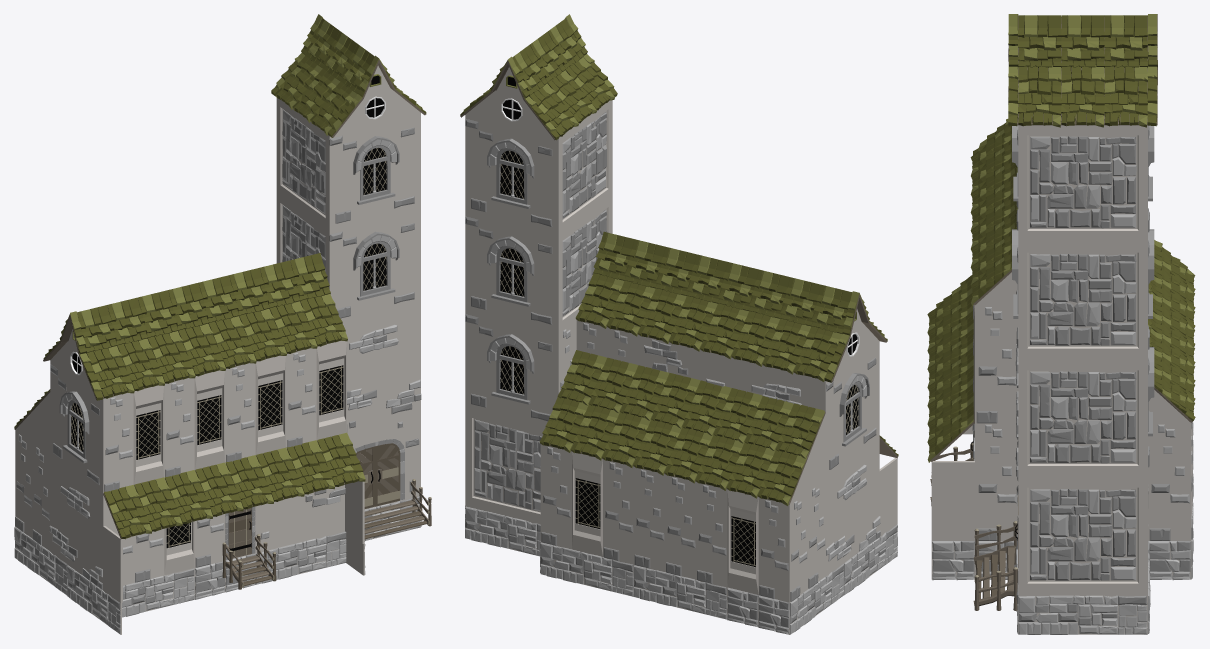
File: HOUSE_16.fbx
3 renders of one model, left to right at view 1: azimuth 30°, elevation 25°; view 2: azimuth 150°, elevation 25°; view 3: azimuth 270°, elevation 25°, orthographic. The views are drawn at different scales.
Parts seen in each view (by area): view 1: WINDOW_03_31, WINDOW_03_30, WALL_03_2, DOOR_02_4, WALL_03_3, WINDOW_03_29, WALL_02_6, WALL_01_2, WINDOW_04_5, WALL_06_12, WALL_06_11, WALL_06_10 (+56 smaller); view 2: WINDOW_03_34, WINDOW_03_33, WINDOW_03_32, WALL_02_9, WALL_02_6, WALL_03_3, WINDOW_03_29, WALL_02_8, WALL_06_21, WALL_06_23, WALL_06_22, WALL_06_20 (+60 smaller); view 3: WALL_02_5, WALL_02_3, WALL_02_7, WALL_02_4, FOUNDATION_03_5, WALL_06_14, WALL_06_13, WALL_06_3, STAIRS_01_3, ROOF_BASE_25, ROOF_BASE_27, ROOF_BASE_23 (+45 smaller).
Boxes of the visible parts, left/top/right/bottom form: WINDOW_03_31: left=329, top=112, right=420, bottom=230; WINDOW_03_30: left=329, top=208, right=420, bottom=322; WALL_03_2: left=342, top=304, right=421, bottom=417; DOOR_02_4: left=347, top=400, right=420, bottom=508; WALL_03_3: left=49, top=456, right=103, bottom=589; WINDOW_03_29: left=50, top=360, right=104, bottom=493; WALL_02_6: left=276, top=98, right=329, bottom=230; WALL_01_2: left=255, top=484, right=345, bottom=552; WINDOW_04_5: left=133, top=385, right=164, bottom=485; WALL_06_12: left=286, top=348, right=316, bottom=448; WALL_06_11: left=225, top=363, right=255, bottom=463; WALL_06_10: left=164, top=378, right=194, bottom=477; WINDOW_03_34: left=465, top=115, right=559, bottom=234; WINDOW_03_33: left=465, top=212, right=558, bottom=331; WINDOW_03_32: left=465, top=310, right=558, bottom=427; WALL_02_9: left=465, top=408, right=545, bottom=523; WALL_02_6: left=555, top=100, right=612, bottom=234; WALL_03_3: left=825, top=439, right=880, bottom=575; WINDOW_03_29: left=825, top=341, right=879, bottom=477; WALL_02_8: left=555, top=196, right=612, bottom=332; WALL_06_21: left=665, top=474, right=696, bottom=579; WALL_06_23: left=758, top=497, right=790, bottom=601; WALL_06_22: left=696, top=482, right=727, bottom=586; WALL_06_20: left=634, top=466, right=665, bottom=571; WALL_02_5: left=1018, top=242, right=1147, bottom=360; WALL_02_3: left=1018, top=360, right=1147, bottom=477; WALL_02_7: left=1018, top=125, right=1147, bottom=242; WALL_02_4: left=1018, top=478, right=1147, bottom=595; FOUNDATION_03_5: left=1018, top=595, right=1147, bottom=634; WALL_06_14: left=1148, top=423, right=1191, bottom=540; WALL_06_13: left=975, top=305, right=1018, bottom=423; WALL_06_3: left=975, top=423, right=1018, bottom=540; STAIRS_01_3: left=973, top=521, right=1017, bottom=610; ROOF_BASE_25: left=1061, top=65, right=1104, bottom=127; ROOF_BASE_27: left=1104, top=65, right=1147, bottom=127; ROOF_BASE_23: left=1018, top=65, right=1061, bottom=127.
Size of the model in its own units: 1133 by 1514 by 620.
